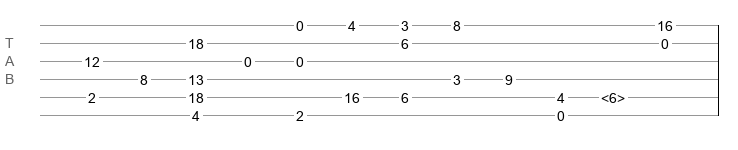0: (244, 54, 252, 64), (296, 54, 304, 64), (296, 18, 304, 28), (557, 108, 565, 118), (661, 36, 669, 46)
12: (84, 54, 100, 64)
13: (188, 72, 204, 82)
16: (344, 90, 360, 100), (657, 18, 673, 28)
18: (188, 36, 204, 46), (188, 90, 204, 100)
2: (88, 90, 96, 100), (296, 108, 304, 118)
3: (401, 18, 409, 28), (453, 72, 461, 82)
4: (192, 108, 200, 118), (348, 18, 356, 28), (557, 90, 565, 100)
6: (401, 36, 409, 46), (401, 90, 409, 100)
8: (140, 72, 148, 82), (453, 18, 461, 28)
9: (505, 72, 513, 82)
harmonic: (601, 90, 625, 100)
